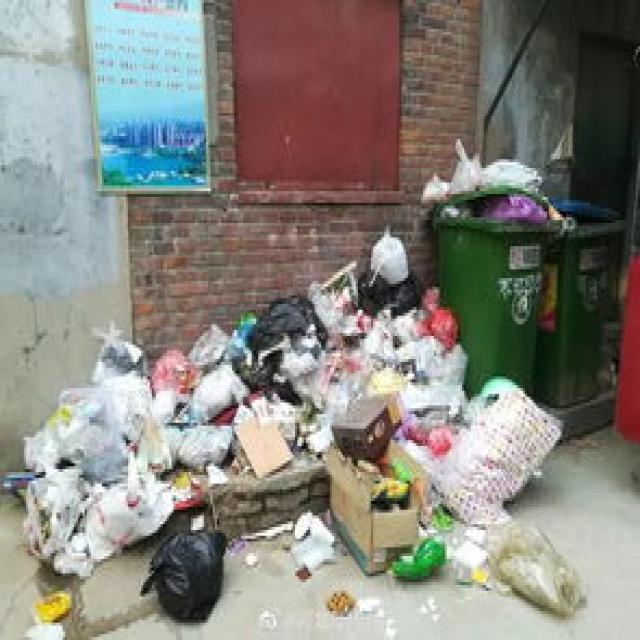garbage: (6, 229, 582, 620)
overflow: (416, 133, 575, 394), (534, 194, 622, 405)
